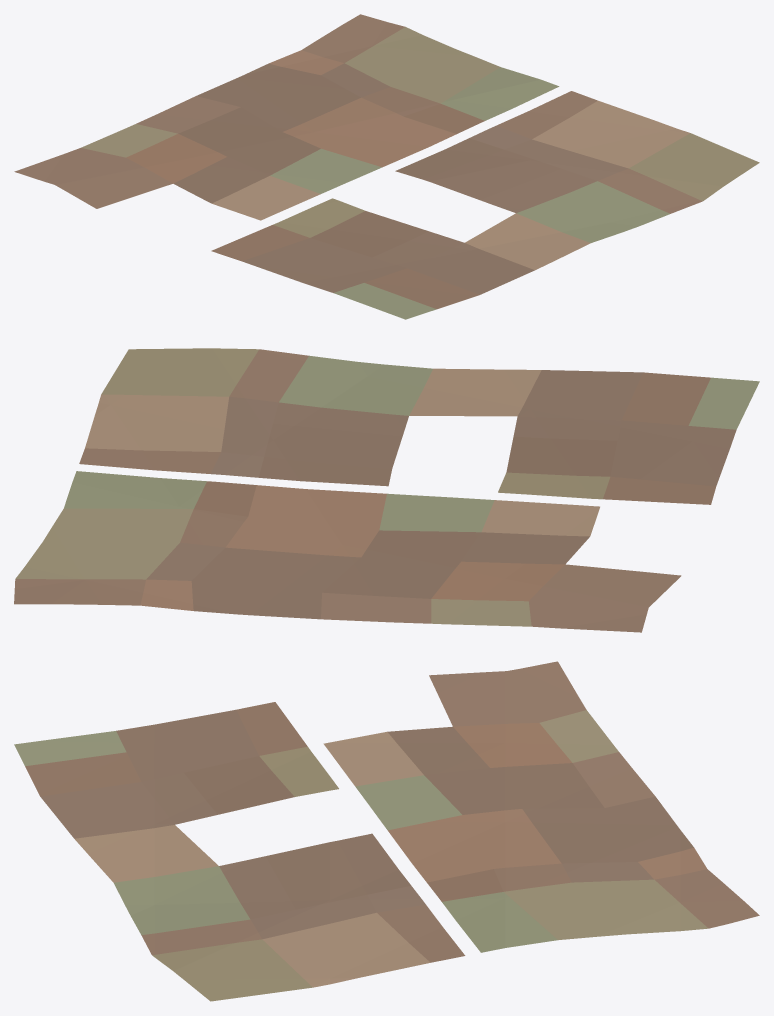
File: farm_16_5_soil.glb
The picture shows the model from 3 angles, top to bottom: view 1: azimuth 30°, elevation 25°; view 2: azimuth 150°, elevation 25°; view 3: azimuth 270°, elevation 25°; orthographic projection. The views are drawn at different scales.
Parts seen in each view (by area): view 1: geometry_0; view 2: geometry_0; view 3: geometry_0.
Part boxes in pixels (bbox=[...]): geometry_0: bbox=[14, 14, 759, 319]; geometry_0: bbox=[14, 348, 759, 632]; geometry_0: bbox=[14, 661, 759, 1001].
Size of the model in its own units: 344 by 11.01 by 340.
